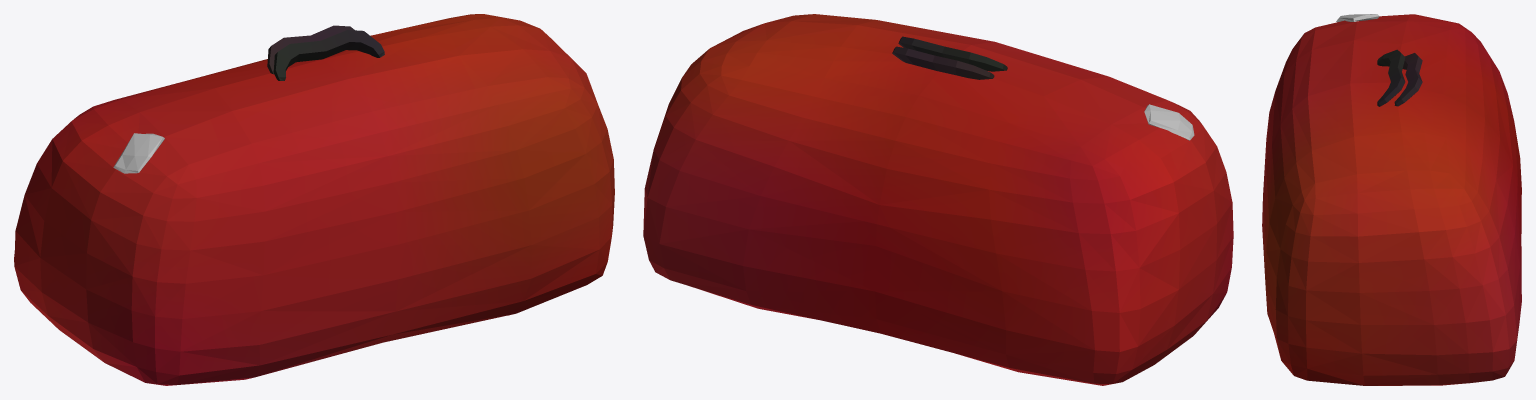
File: borsone.obj
3 views of the same model, side by side, from view 1: azimuth 30°, elevation 25°; view 2: azimuth 150°, elevation 25°; view 3: azimuth 270°, elevation 25° (orthographic). The views are drawn at different scales.
Visible parts, largest first — view 1: Group25564, Group25609, Group25594, Group25579; view 2: Group25564, Group25579, Group25609, Group25594; view 3: Group25564, Group25609, Group25579, Group25594.
Boxes of the visible parts, box(x1,y1,x2,y2) form: Group25564: box(14, 14, 614, 385); Group25609: box(273, 30, 384, 80); Group25594: box(113, 133, 164, 173); Group25579: box(267, 25, 354, 74); Group25564: box(643, 14, 1233, 385); Group25579: box(892, 46, 994, 79); Group25609: box(898, 36, 1007, 71); Group25594: box(1144, 104, 1194, 140); Group25564: box(1262, 14, 1521, 385); Group25609: box(1377, 49, 1405, 106); Group25579: box(1394, 53, 1422, 106); Group25594: box(1336, 14, 1379, 22).
Bounding box in the file's own units: 4.65 × 2.34 × 2.32.
1 material, 1 textured.
